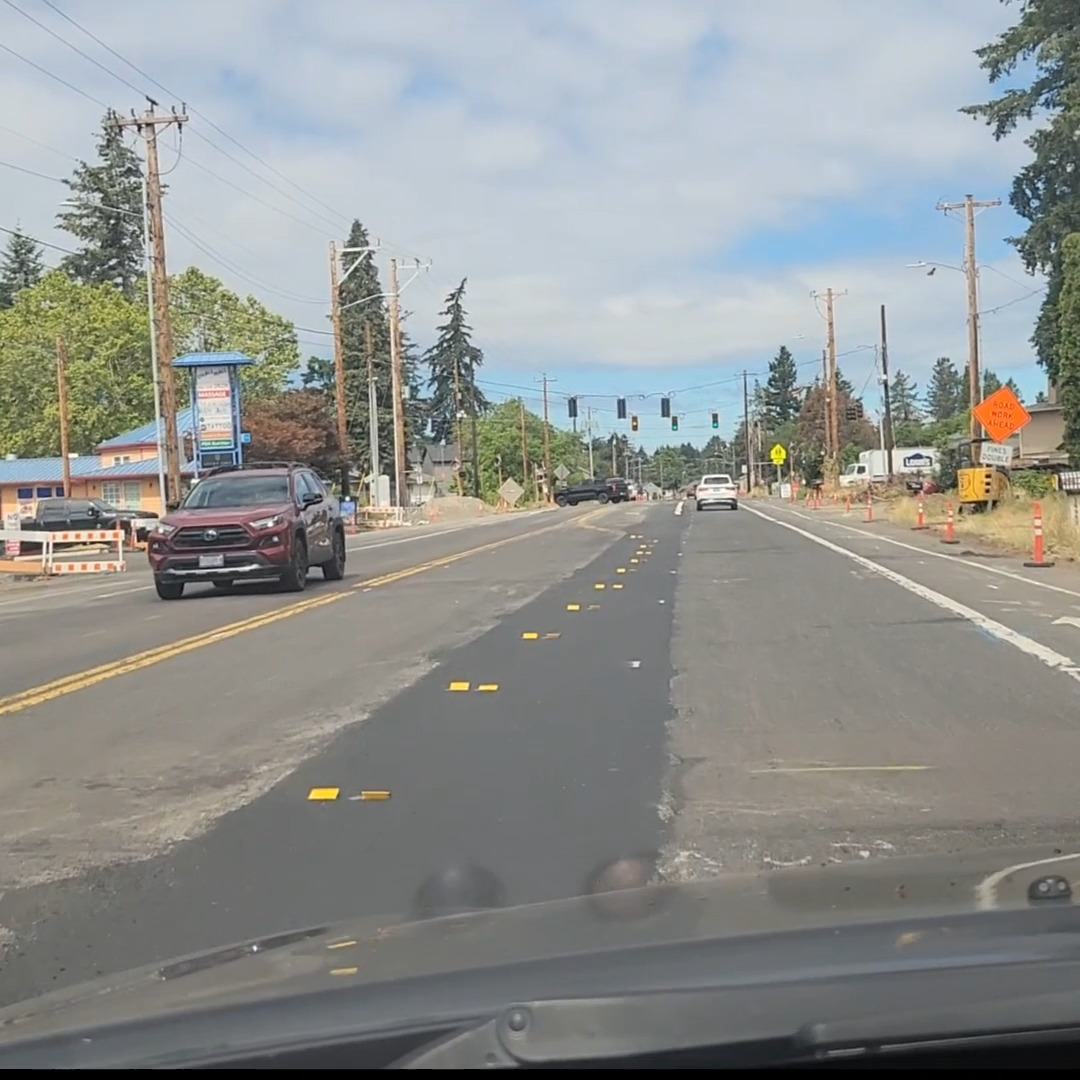car: (145, 461, 346, 597), (13, 496, 161, 549), (551, 476, 632, 506), (694, 474, 739, 511)
crosswalk-sign: (770, 444, 786, 464)
delineator: (1023, 504, 1055, 567), (938, 501, 960, 545), (911, 494, 929, 531), (862, 487, 876, 522), (843, 491, 853, 515), (813, 489, 822, 508)
